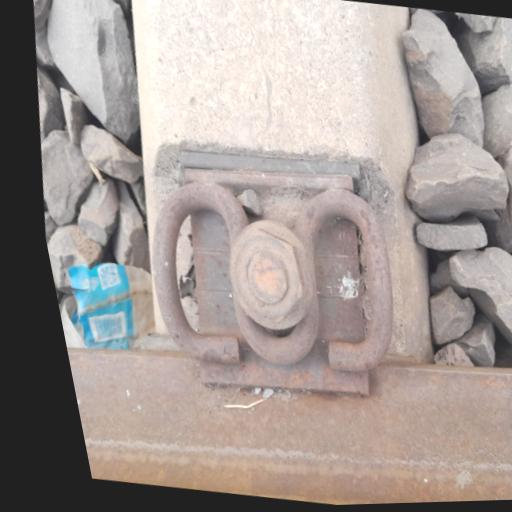bolt: (194, 189, 353, 353)
clip: (97, 114, 456, 414)
